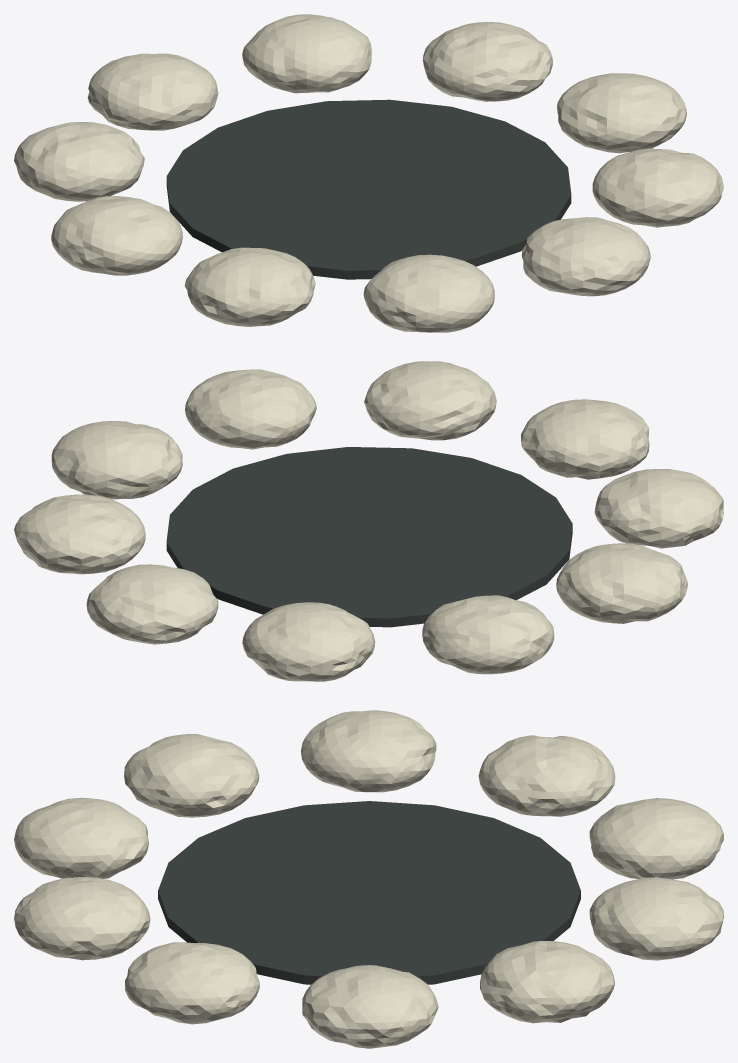
The model's file is wilderness-survival-camp-stone-fire-ring-75f424f1__21948.glb.
3 views of the same model, one above another, from view 1: azimuth 30°, elevation 25°; view 2: azimuth 150°, elevation 25°; view 3: azimuth 270°, elevation 25° (orthographic). The views are drawn at different scales.
Visible parts, largest first — view 1: stone-fire-ring; view 2: stone-fire-ring; view 3: stone-fire-ring.
Boxes of the visible parts, left/top/right/bottom form: stone-fire-ring: left=14, top=14, right=723, bottom=332; stone-fire-ring: left=14, top=361, right=723, bottom=681; stone-fire-ring: left=14, top=710, right=723, bottom=1048.
Size of the model in its own units: 1.47 by 0.1112 by 1.41.
